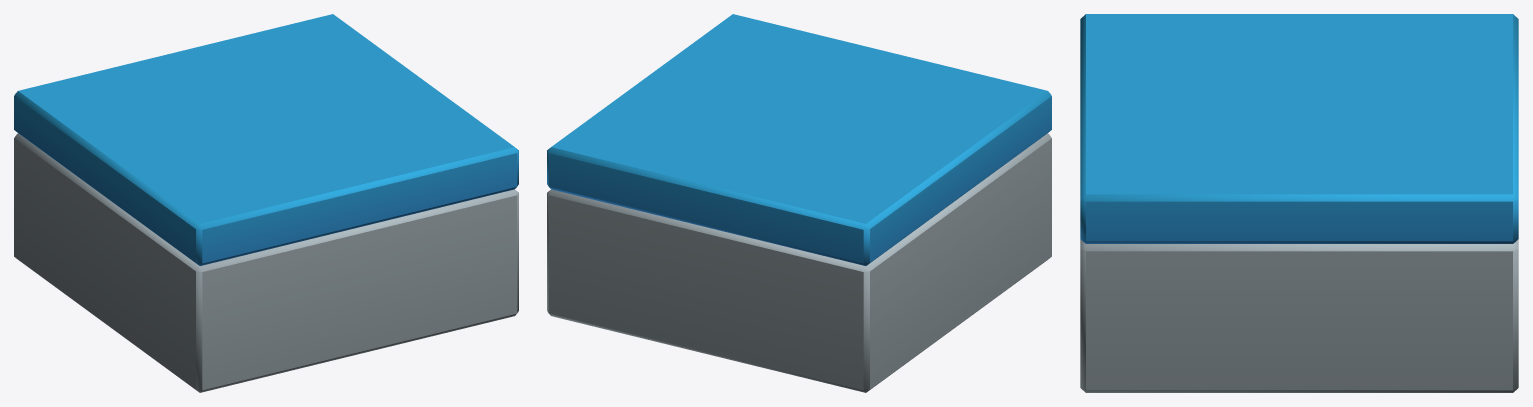
The model's file is platform-4x4x2-blue.glb.
3 renders of one model, left to right at view 1: azimuth 30°, elevation 25°; view 2: azimuth 150°, elevation 25°; view 3: azimuth 270°, elevation 25°, orthographic. The views are drawn at different scales.
Visible parts, largest first — view 1: platform_4x4x2_blue; view 2: platform_4x4x2_blue; view 3: platform_4x4x2_blue.
Boxes of the visible parts, x1,y1,x2,y2 form: platform_4x4x2_blue: (14,14,518,392); platform_4x4x2_blue: (547,14,1051,392); platform_4x4x2_blue: (1080,14,1518,392).
Bounding box in the file's own units: 4 × 2 × 4.
1 material, 1 textured.
